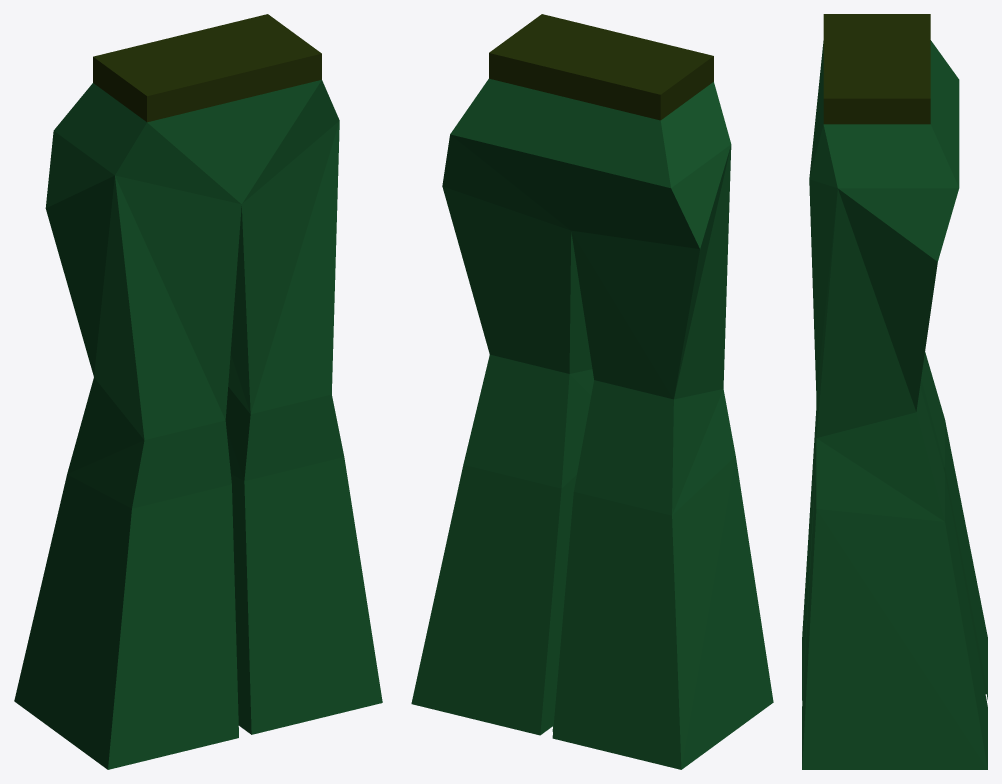
The model's file is model_431_idk.obj.
3 views of the same model, side by side, from view 1: azimuth 30°, elevation 25°; view 2: azimuth 150°, elevation 25°; view 3: azimuth 270°, elevation 25° (orthographic).
Visible parts, largest first — view 1: 431; view 2: 431; view 3: 431.
Boxes of the visible parts, x1,y1,x2,y2 form: 431: [14, 14, 382, 769]; 431: [411, 14, 773, 769]; 431: [802, 14, 987, 769].
Bounding box in the file's own units: 44 × 100 × 26.
